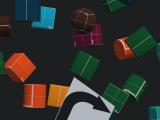Right: (55, 77, 115, 120)
